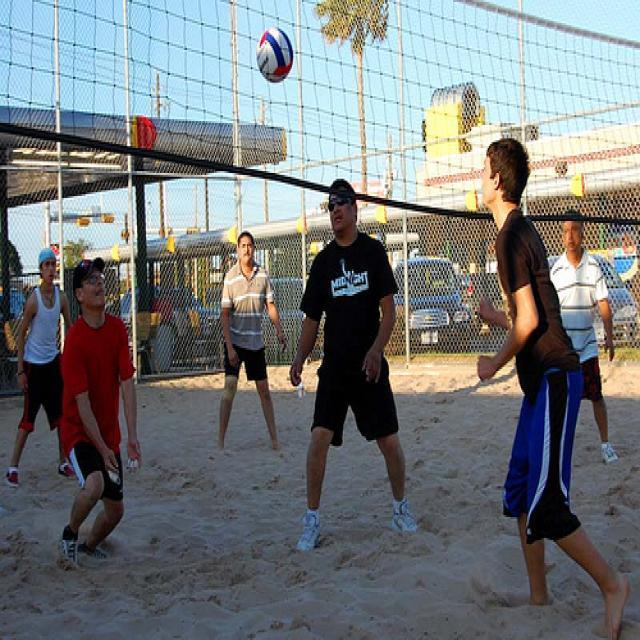volleyball: (255, 27, 294, 82)
